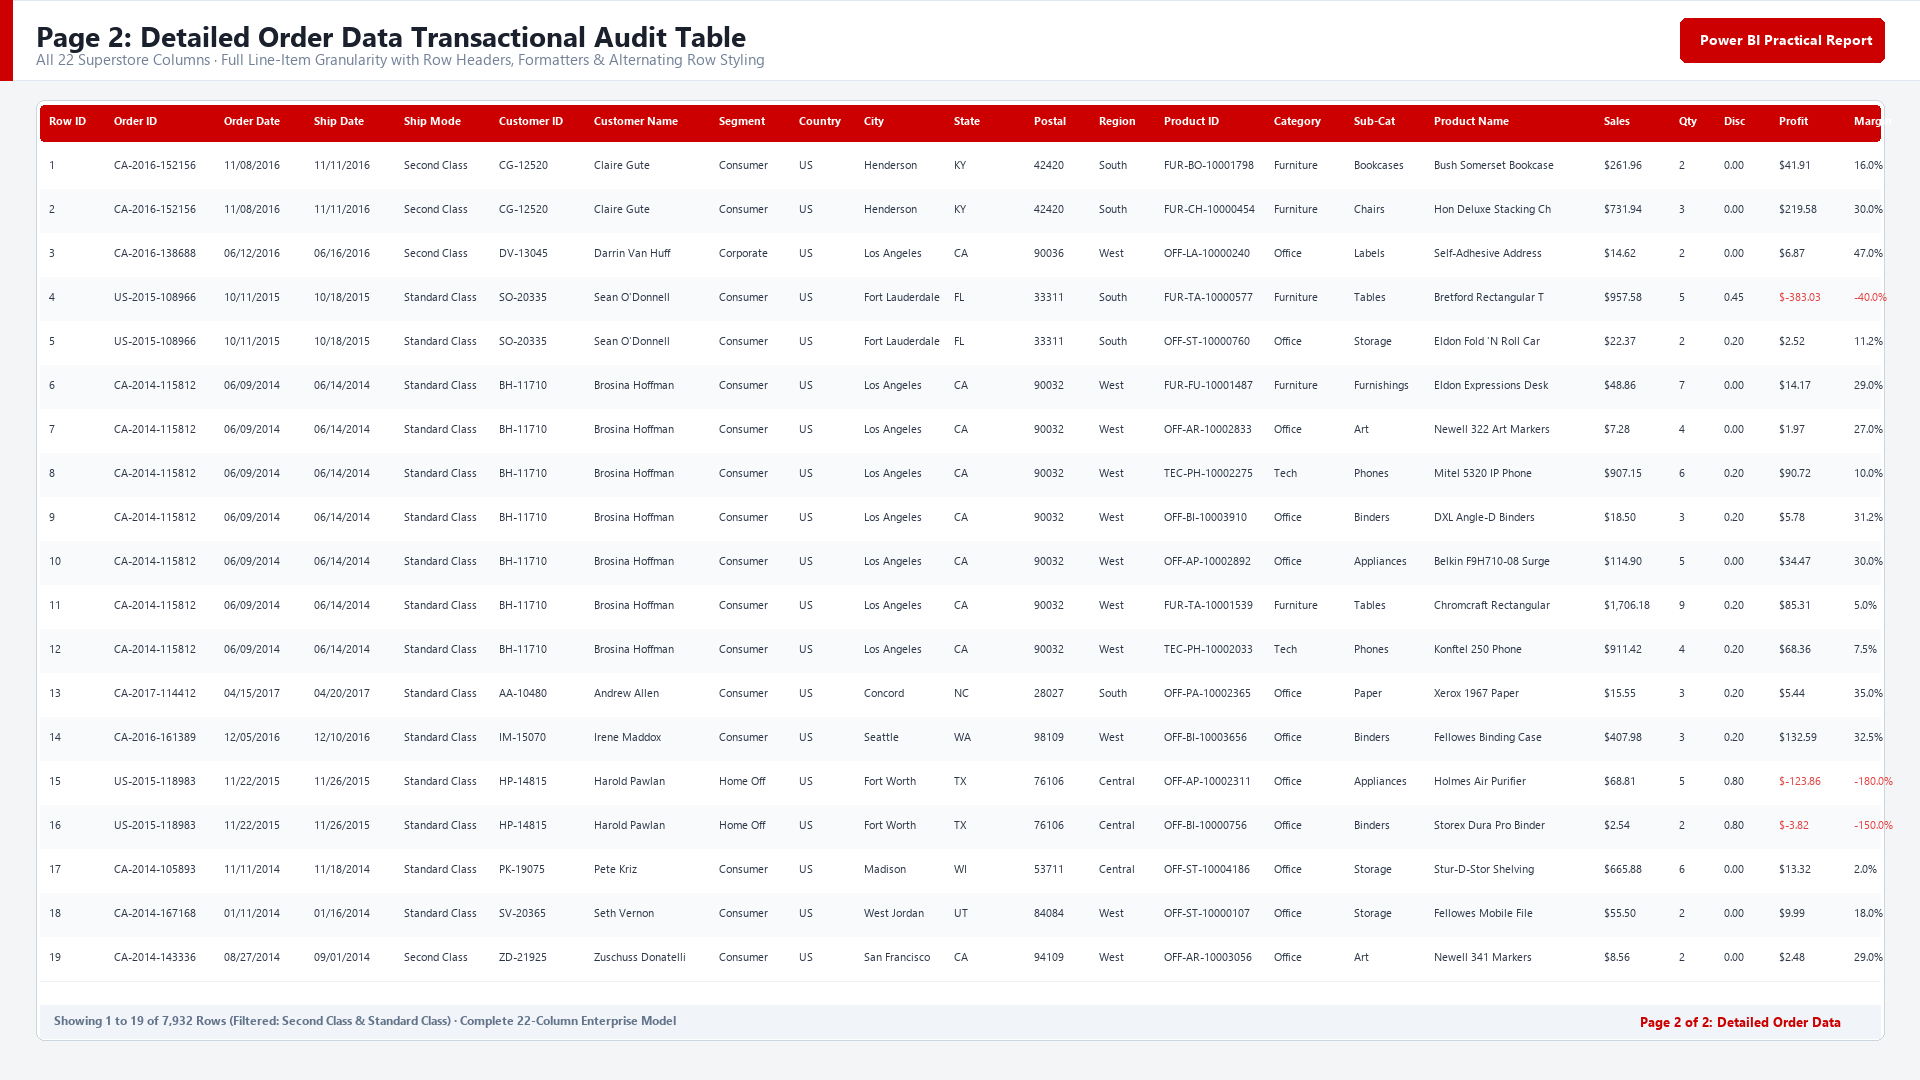

This screenshot's page, from the dashboard's own definition file:
{"tool":"powerbi","page":{"name":"Detailed Order Data","canvas":[1280,720],"ordinal":1},"visuals":[{"type":"tableEx","fields":{"Values":["Sample - Superstore.Category","Sample - Superstore.City","Sample - Superstore.Customer ID","Sample - Superstore.Customer Identifier","Sum(Sample - Superstore.Discount)","Sample - Superstore.Order Date.Variation.Date Hierarchy.Year","Sample - Superstore.Order Date.Variation.Date Hierarchy.Quarter","Sample - Superstore.Order Date.Variation.Date Hierarchy.Month","Sample - Superstore.Order Date.Variation.Date Hierarchy.Day","Sample - Superstore.Order ID","Sample - Superstore.Order Region Code","Sample - Superstore.Product ID"]},"box":[0,0,1280.3,720.2],"z":0}]}

Visuals, with their boxes in screenshot pixels (x1, y1, x2, y2), scaled from the page's 1280x720 canvas onto the 1920x1080 screenshot:
tableEx - Sample - Superstore.Category x Sample - Superstore.City: bbox=[0, 0, 1919, 1079]
